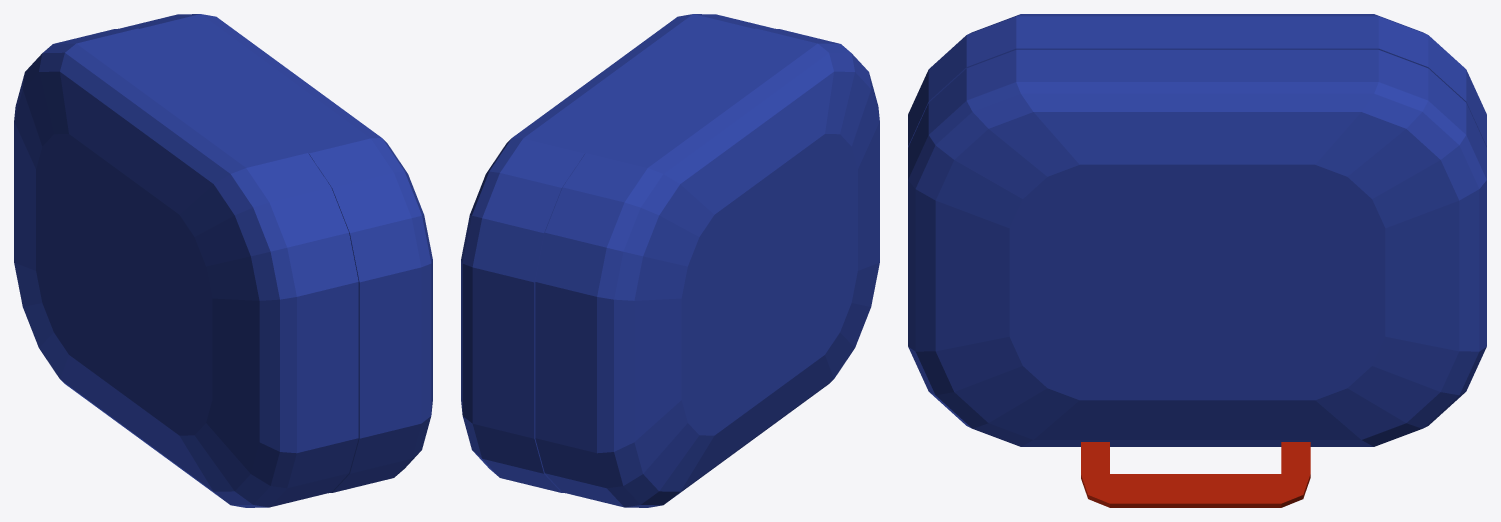
File: Hangdoos.fbx
The picture shows the model from 3 angles, left to right: view 1: azimuth 30°, elevation 25°; view 2: azimuth 150°, elevation 25°; view 3: azimuth 270°, elevation 25°; orthographic projection. The views are drawn at different scales.
Parts seen in each view (by area): view 1: Cylinder, Cylinder.001; view 2: Cylinder, Cylinder.001; view 3: Cylinder.001, Cylinder, Cube.
Part boxes in pixels (bbox=[...]): Cylinder: bbox=[14, 28, 358, 507]; Cylinder.001: bbox=[120, 14, 432, 493]; Cylinder: bbox=[535, 28, 879, 507]; Cylinder.001: bbox=[461, 14, 773, 493]; Cylinder.001: bbox=[908, 49, 1486, 446]; Cylinder: bbox=[908, 14, 1486, 147]; Cube: bbox=[1081, 442, 1310, 507].
Size of the model in its own units: 21.54 by 34.95 by 45.86.
